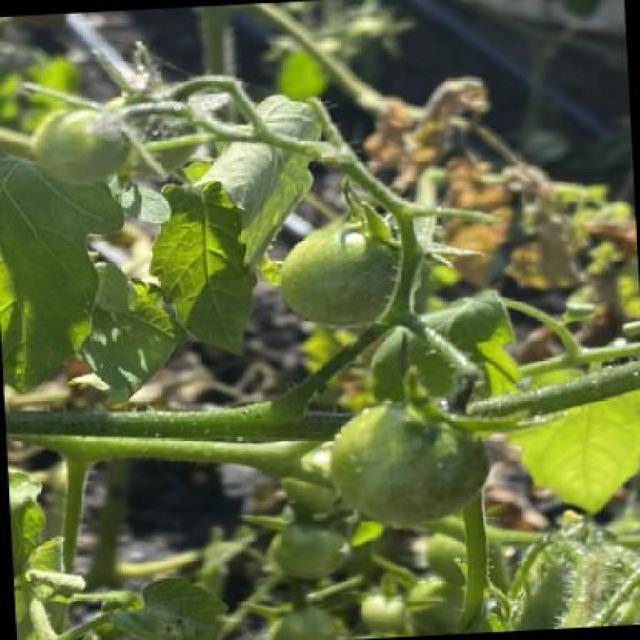unripe tomato: (314, 392, 486, 534), (273, 204, 425, 334), (26, 107, 132, 188), (353, 566, 469, 636), (410, 520, 521, 588), (271, 447, 360, 507), (262, 520, 346, 580), (257, 598, 355, 638)
